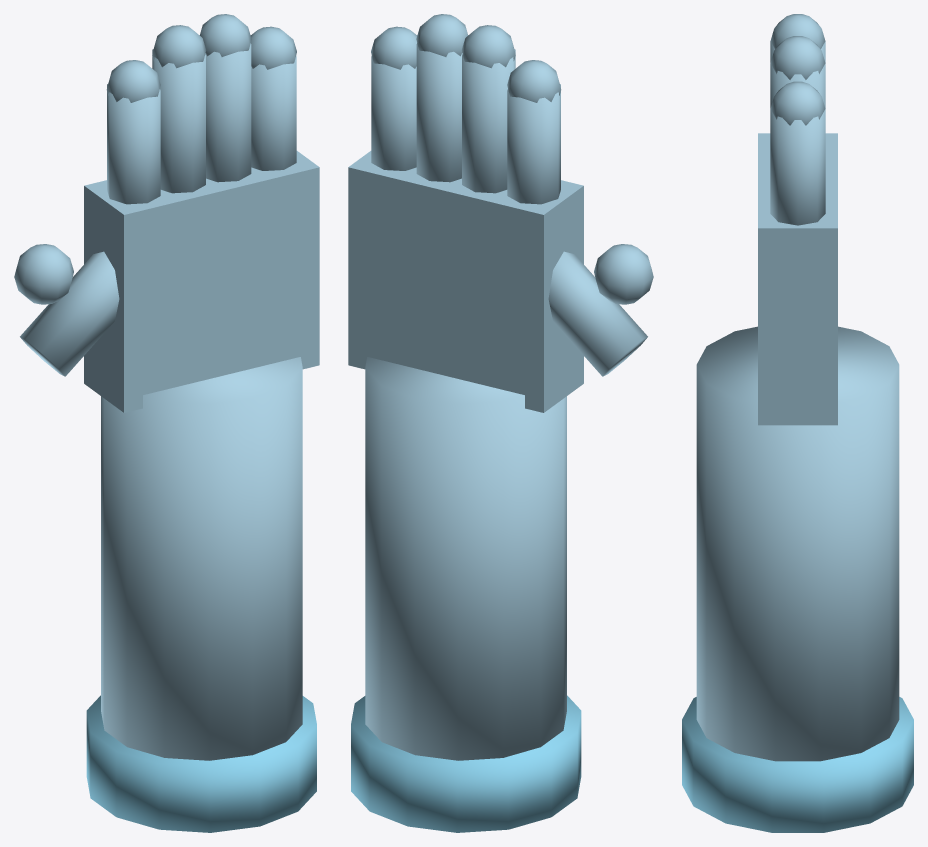
The model's file is glove.glb.
3 renders of one model, left to right at view 1: azimuth 30°, elevation 25°; view 2: azimuth 150°, elevation 25°; view 3: azimuth 270°, elevation 25°, orthographic.
Visible parts, largest first — view 1: glove; view 2: glove; view 3: glove.
Part boxes in pixels (x1=…): glove: x1=14, y1=14, x2=319, y2=832; glove: x1=348, y1=14, x2=653, y2=832; glove: x1=682, y1=14, x2=913, y2=832.
Bounding box in the file's own units: 0.223 × 0.577 × 0.16.
